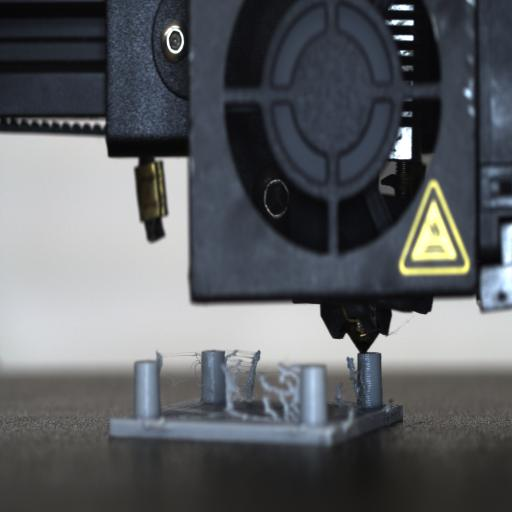stringing: (225, 341, 302, 425), (158, 352, 202, 389)
